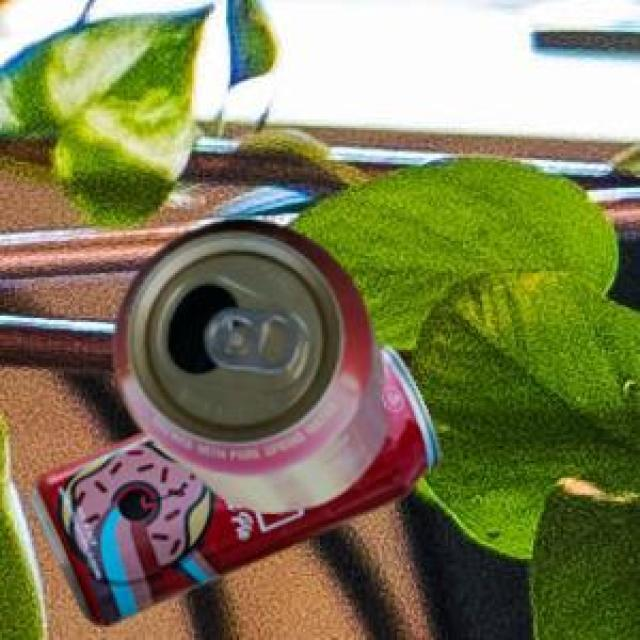Can: (27, 342, 436, 622), (110, 217, 385, 511)
